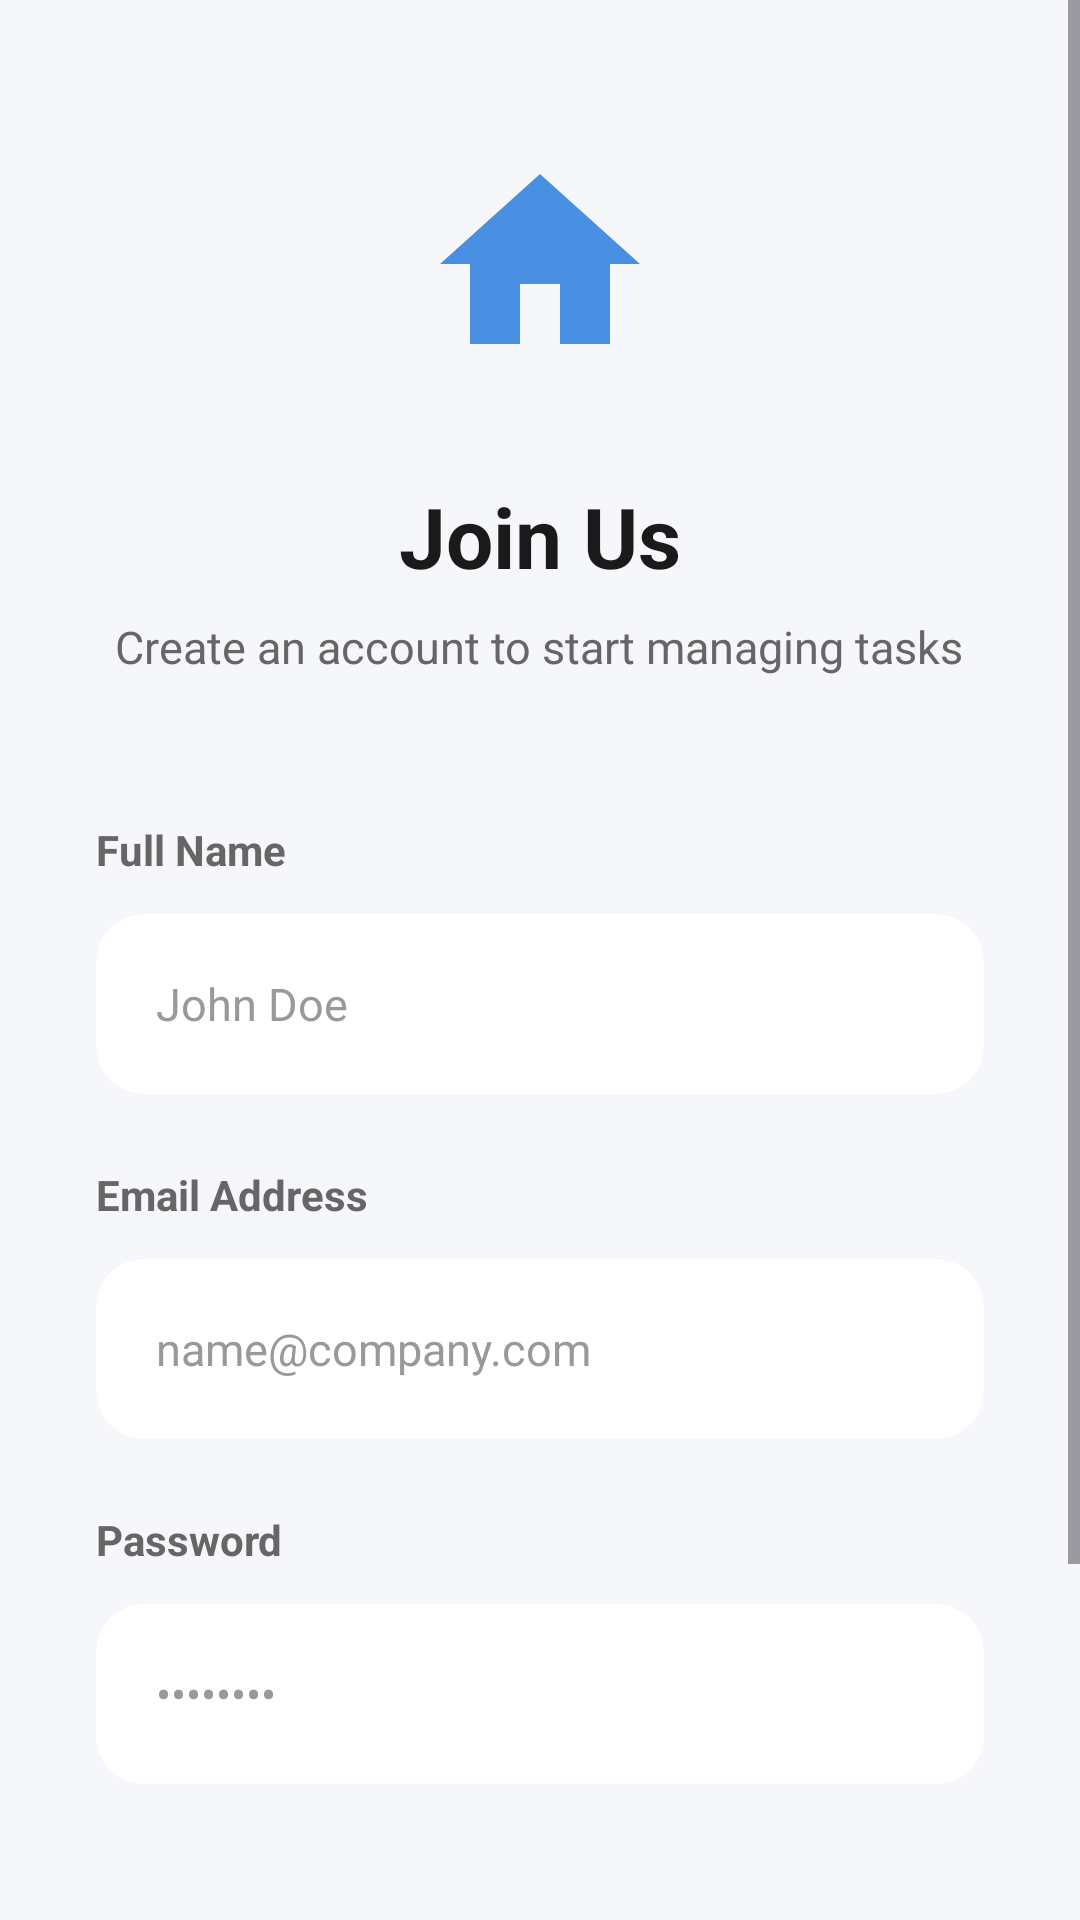

Point at icon controls on the screen. Image size 1080 x 1920, points as (x,y).
home: (540,259)
